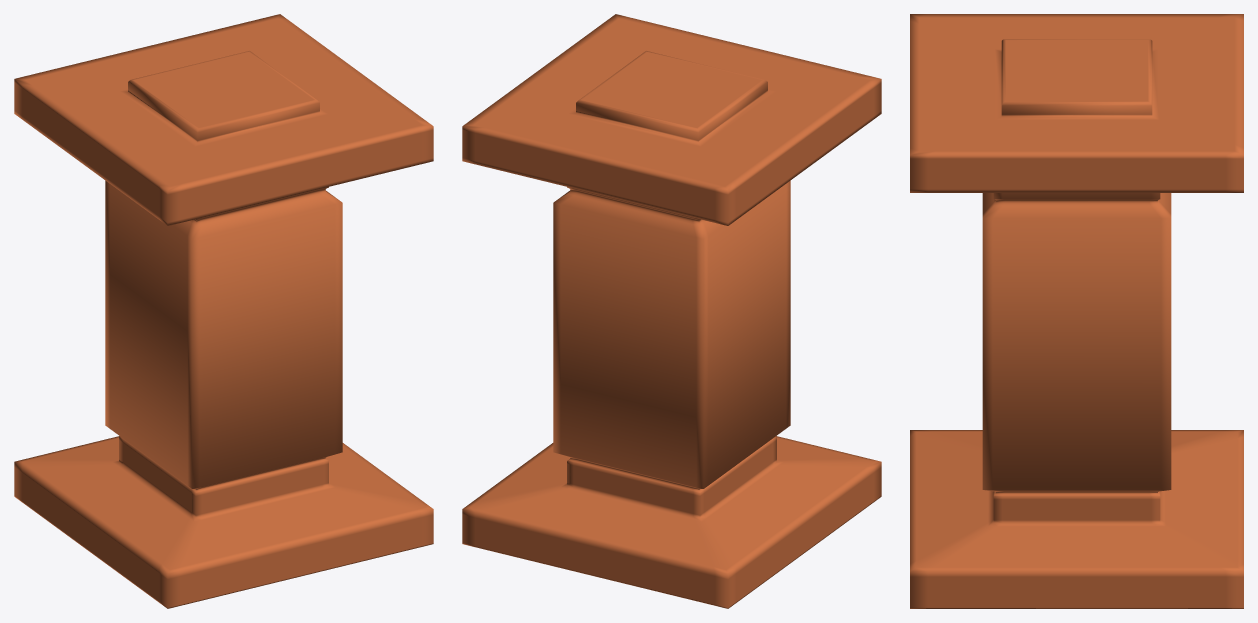
File: Desk_Lamp_03.fbx
3 renders of one model, left to right at view 1: azimuth 30°, elevation 25°; view 2: azimuth 150°, elevation 25°; view 3: azimuth 270°, elevation 25°, orthographic. The views are drawn at different scales.
Parts seen in each view (by area): view 1: Desk Lamp 03; view 2: Desk Lamp 03; view 3: Desk Lamp 03.
Part boxes in pixels (bbox=[...]): Desk Lamp 03: bbox=[14, 14, 433, 608]; Desk Lamp 03: bbox=[462, 14, 881, 608]; Desk Lamp 03: bbox=[910, 14, 1243, 608].
Size of the model in its own units: 20 by 30.91 by 20.
